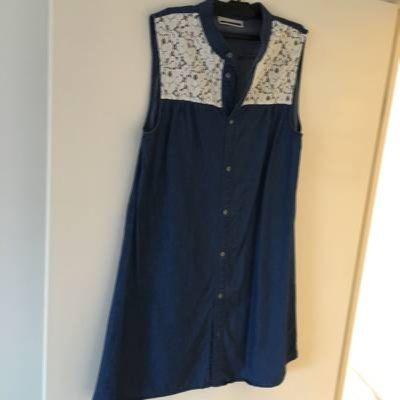Dress: (81, 9, 336, 395)
